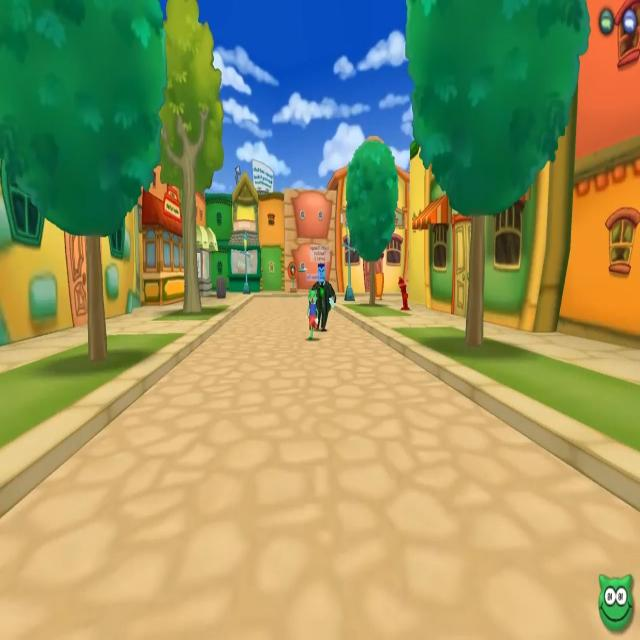shortchange: (302, 240, 338, 336)
